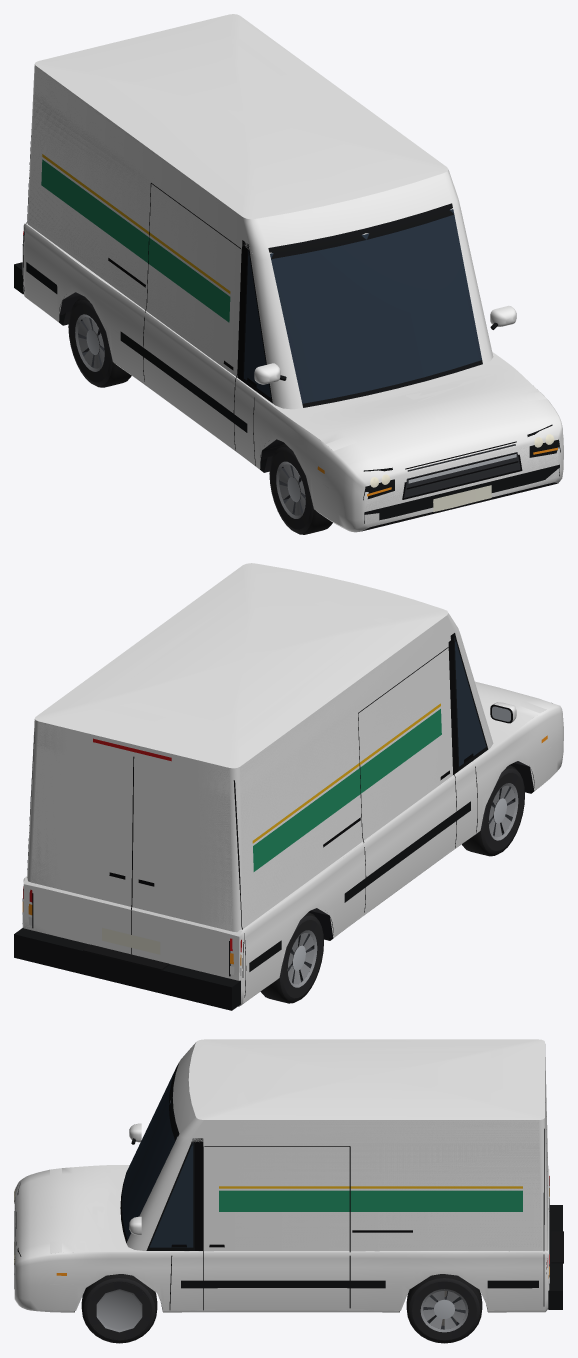
File: van.glb
3 renders of one model, top to bottom at view 1: azimuth 30°, elevation 25°; view 2: azimuth 150°, elevation 25°; view 3: azimuth 270°, elevation 25°, orthographic. The views are drawn at different scales.
Parts seen in each view (by area): view 1: Body, BodyLod, Wheel_RR, Wheel_FR; view 2: Body, BodyLod, Wheel_RR, Wheel_FR; view 3: Body, BodyLod, Wheel_RL, WheelLod_FL, Wheel_FL.
Part boxes in pixels (x1,y1,x2,y2): Body: (14,14,563,532); BodyLod: (29,37,559,523); Wheel_RR: (68,296,131,387); Wheel_FR: (269,444,332,534); Body: (14,563,563,1010); BodyLod: (23,586,550,986); Wheel_RR: (260,912,323,1003); Wheel_FR: (462,765,524,856); Body: (14,1039,563,1312); BodyLod: (14,1044,549,1310); Wheel_RL: (406,1274,482,1343); WheelLod_FL: (83,1281,155,1340); Wheel_FL: (81,1274,157,1343).
Bounding box in the file's own units: 2.3 × 2.39 × 5.25.
8 materials, 6 textured.
